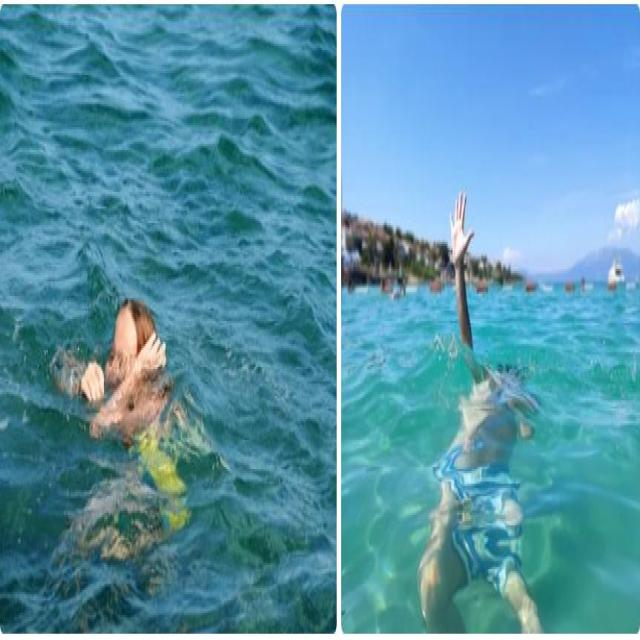Out of Water: (448, 188, 526, 408), (78, 289, 171, 451)
